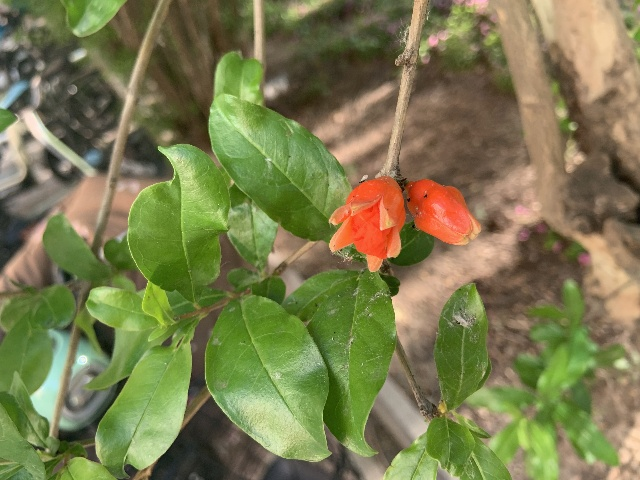bud: (405, 179, 480, 245)
flower: (328, 176, 405, 271)
